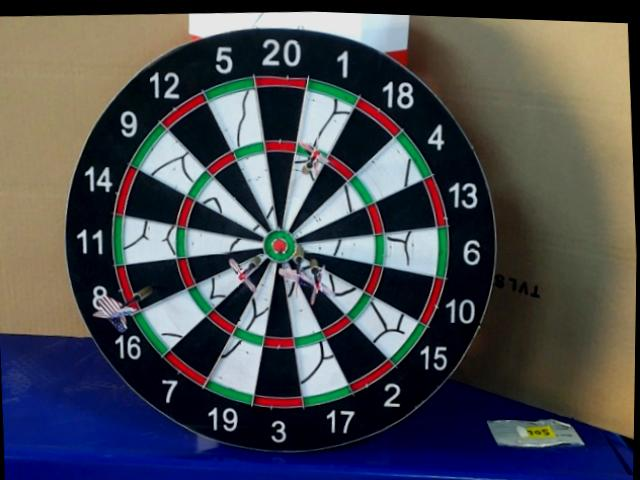single_1: (282, 160, 317, 218)
single_16: (197, 258, 260, 306)
single_8: (130, 262, 189, 307)
